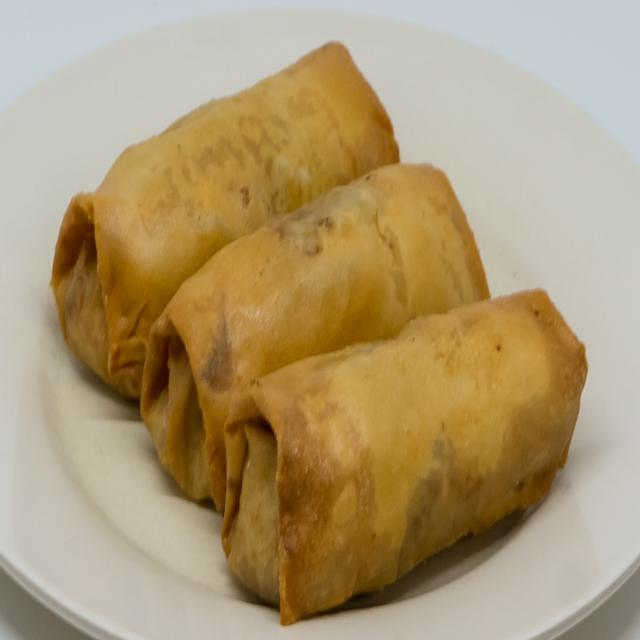Lumpia-Semarang: (37, 29, 593, 622)
